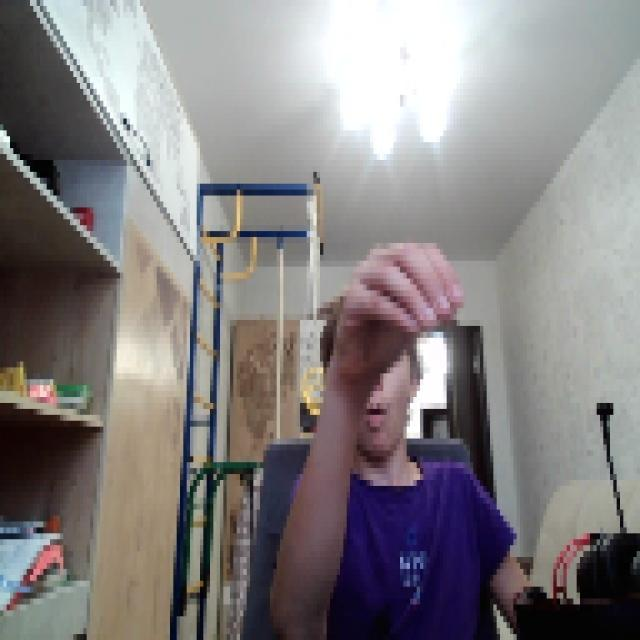left_click: (330, 231, 460, 379)
